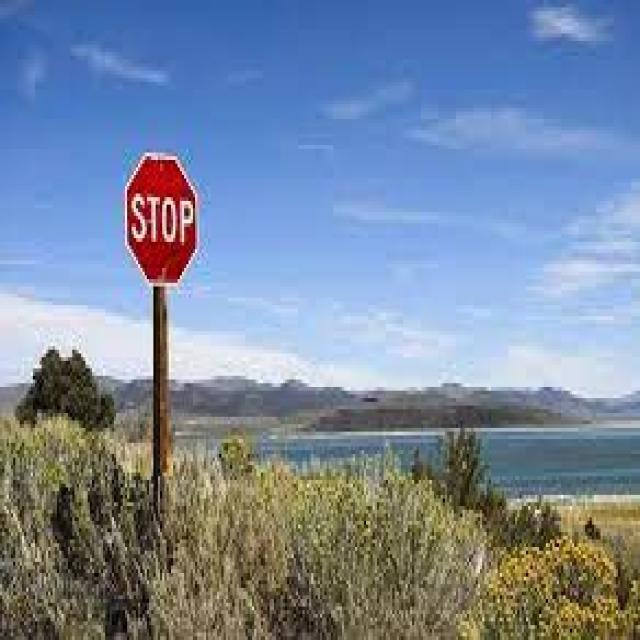STOP: (116, 137, 207, 305)
